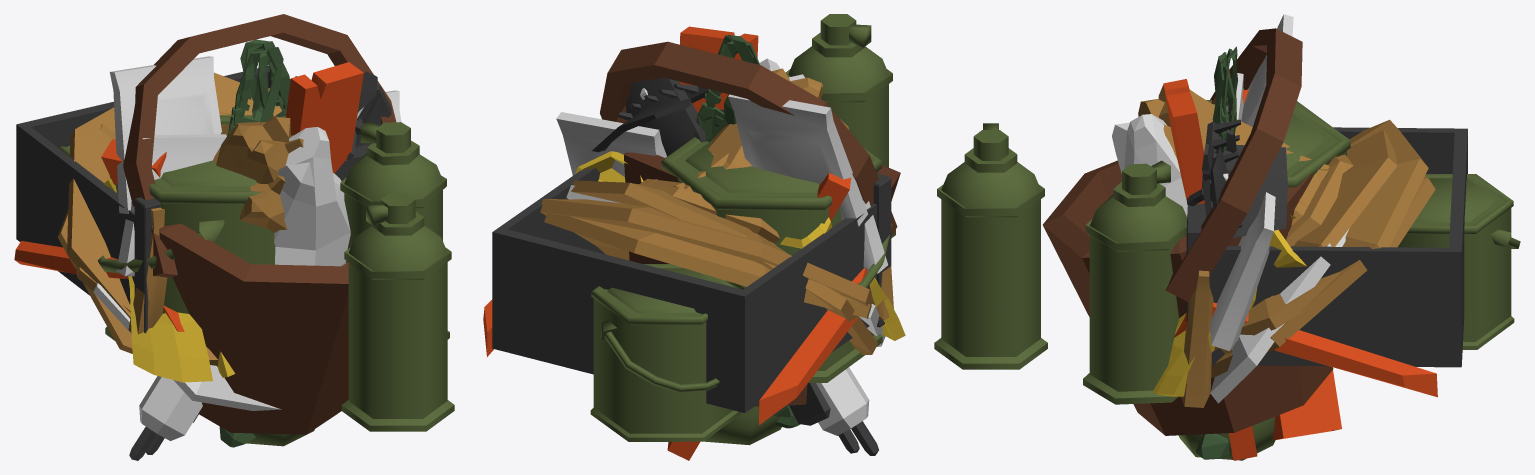
The model's file is tool-rack-items.glb.
The picture shows the model from 3 angles, left to right: view 1: azimuth 30°, elevation 25°; view 2: azimuth 150°, elevation 25°; view 3: azimuth 270°, elevation 25°; orthographic projection.
Visible parts, largest first — view 1: paint_cans, bucket, drawer, seed_packets, scarecrow_hat, hat_03, wood_scraps, gloves, hat_02, hat_01, screwdriver_phillips, old_clothing_02 (+6 smaller); view 2: paint_cans, drawer, seed_packets, bucket, hat_03, hat_01, hat_02, sun_glasses, wood_scraps, spade, screwdriver_phillips, gloves (+8 smaller); view 3: paint_cans, bucket, drawer, hat_03, seed_packets, wood_scraps, scarecrow_hat, hat_02, sun_glasses, hat_01, gloves, hoe (+5 smaller).
Part boxes in pixels (box(x1,y1,x2,y2)): paint_cans: box(59, 115, 454, 431); bucket: box(123, 14, 396, 434); drawer: box(16, 66, 371, 333); seed_packets: box(109, 56, 401, 334); scarecrow_hat: box(93, 127, 350, 410); hat_03: box(67, 88, 303, 318); wood_scraps: box(101, 62, 363, 184); gloves: box(104, 178, 235, 382); hat_02: box(57, 72, 287, 353); hat_01: box(76, 116, 290, 365); screwdriver_phillips: box(139, 106, 364, 440); old_clothing_02: box(219, 47, 286, 447); paint_cans: box(590, 14, 895, 441); drawer: box(492, 168, 891, 412); seed_packets: box(556, 94, 893, 319); bucket: box(600, 41, 900, 406); hat_03: box(540, 84, 874, 306); hat_01: box(544, 68, 871, 318); hat_02: box(571, 119, 877, 354); sun_glasses: box(483, 268, 867, 424); wood_scraps: box(667, 26, 851, 460); spade: box(625, 77, 859, 453); screwdriver_phillips: box(640, 88, 869, 435); gloves: box(575, 151, 905, 340); paint_cans: box(934, 100, 1520, 404); bucket: box(1043, 28, 1333, 435); drawer: box(1186, 127, 1467, 367); hat_03: box(1138, 99, 1428, 378); seed_packets: box(1181, 14, 1293, 407); wood_scraps: box(1163, 79, 1341, 460); scarecrow_hat: box(1112, 114, 1349, 403); hat_02: box(1220, 130, 1397, 353); sun_glasses: box(1174, 302, 1437, 397); hat_01: box(1158, 85, 1435, 349); gloves: box(1153, 214, 1306, 396); hoe: box(1187, 144, 1287, 238).
Size of the model in its own units: 0.1008 by 0.115 by 0.1574.
